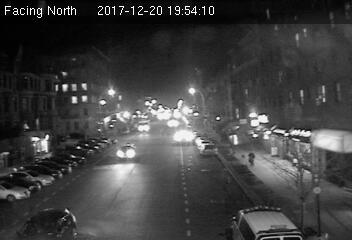car: (14, 208, 78, 240), (117, 143, 139, 161), (199, 142, 217, 156)
police: (229, 204, 305, 240)
